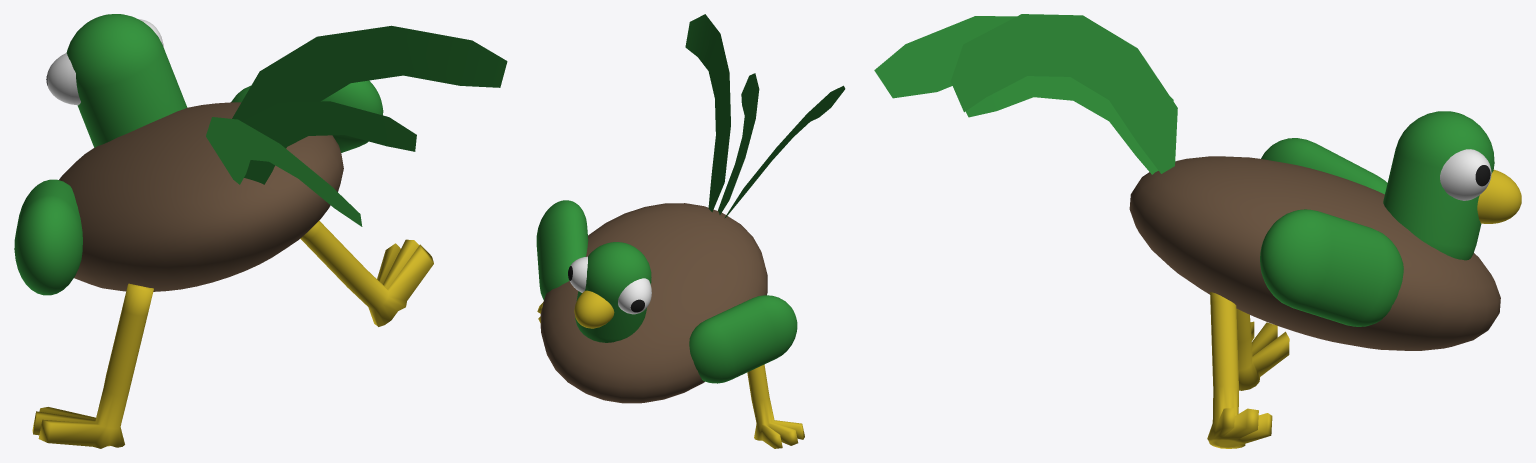
Rendered from Bird hat.glb.
The picture shows the model from 3 angles, left to right: view 1: azimuth 30°, elevation 25°; view 2: azimuth 150°, elevation 25°; view 3: azimuth 270°, elevation 25°; orthographic projection. The views are drawn at different scales.
Parts seen in each view (by area): view 1: Chicken hat; view 2: Chicken hat; view 3: Chicken hat.
Boxes of the visible parts, x1,y1,x2,y2 form: Chicken hat: (14, 14, 507, 448); Chicken hat: (536, 14, 845, 448); Chicken hat: (874, 14, 1521, 448).
Bounding box in the file's own units: 0.7806 × 0.8864 × 1.14.
